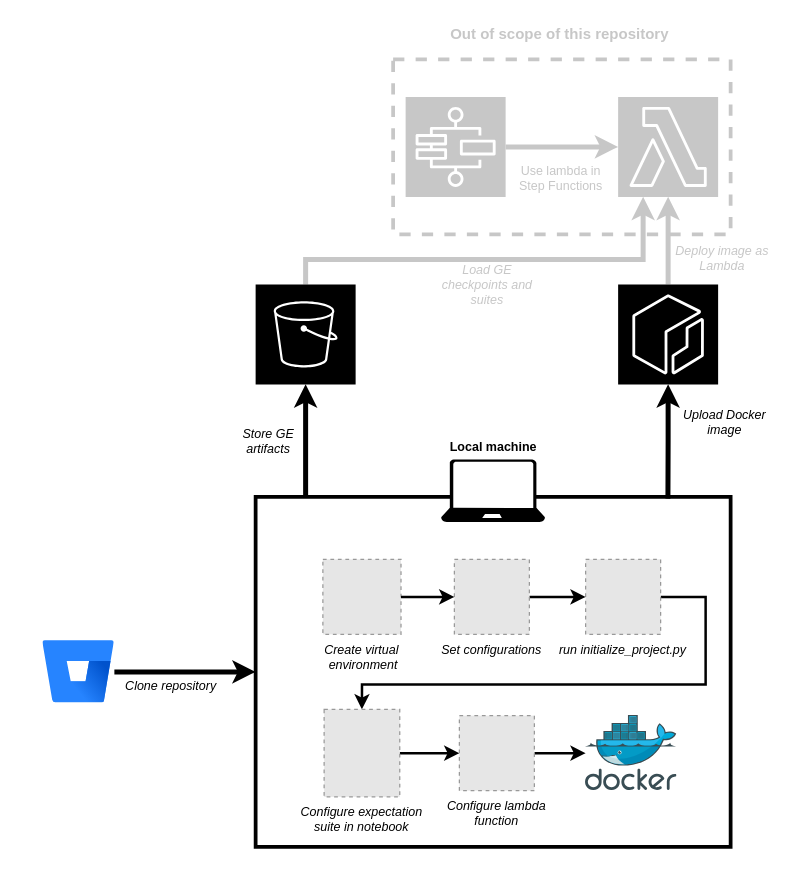
The diagram is 799 pixels wide and 870 high, and some of its shapes have lost their labels. Grey dashed boxes stand in for pictures. Here are the shapes that lost their labels. From the top down, the centre of each, then its label:
At pixel 78 671: "wwf-ews-testing".
At pixel 630 752: "Create docker image".
